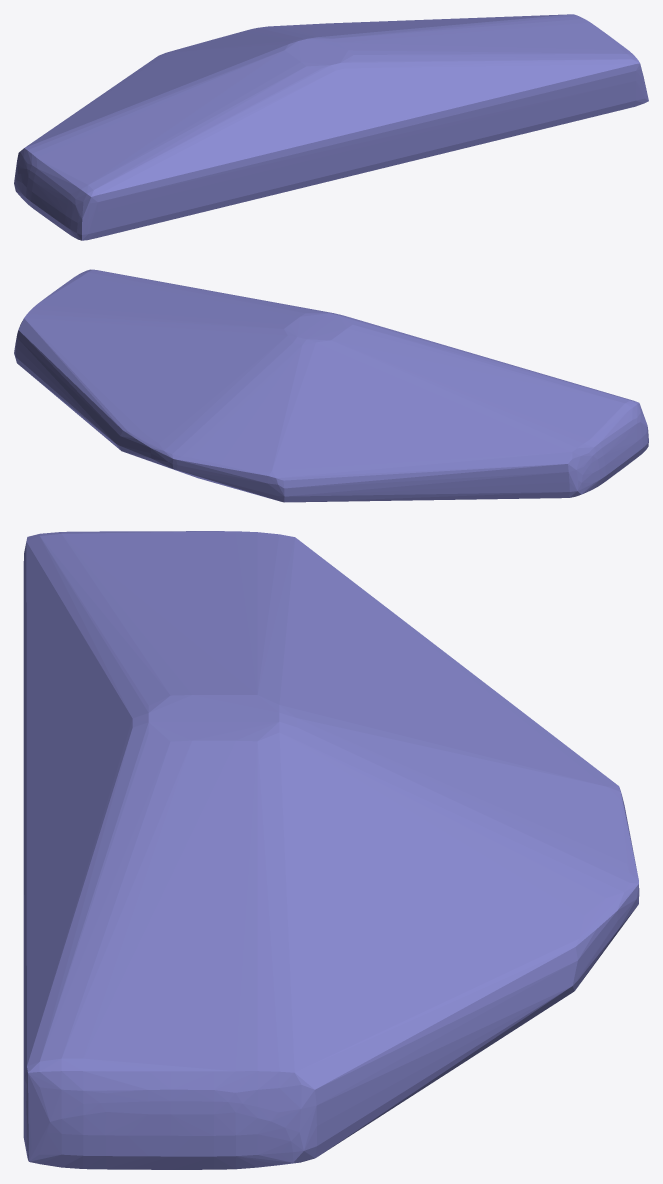
The model's file is right_shoulder_yaw_link_part_12.obj.
3 renders of one model, top to bottom at view 1: azimuth 30°, elevation 25°; view 2: azimuth 150°, elevation 25°; view 3: azimuth 270°, elevation 25°, orthographic. The views are drawn at different scales.
Size of the model in its own units: 0.0986 by 0.0147 by 0.0456.
